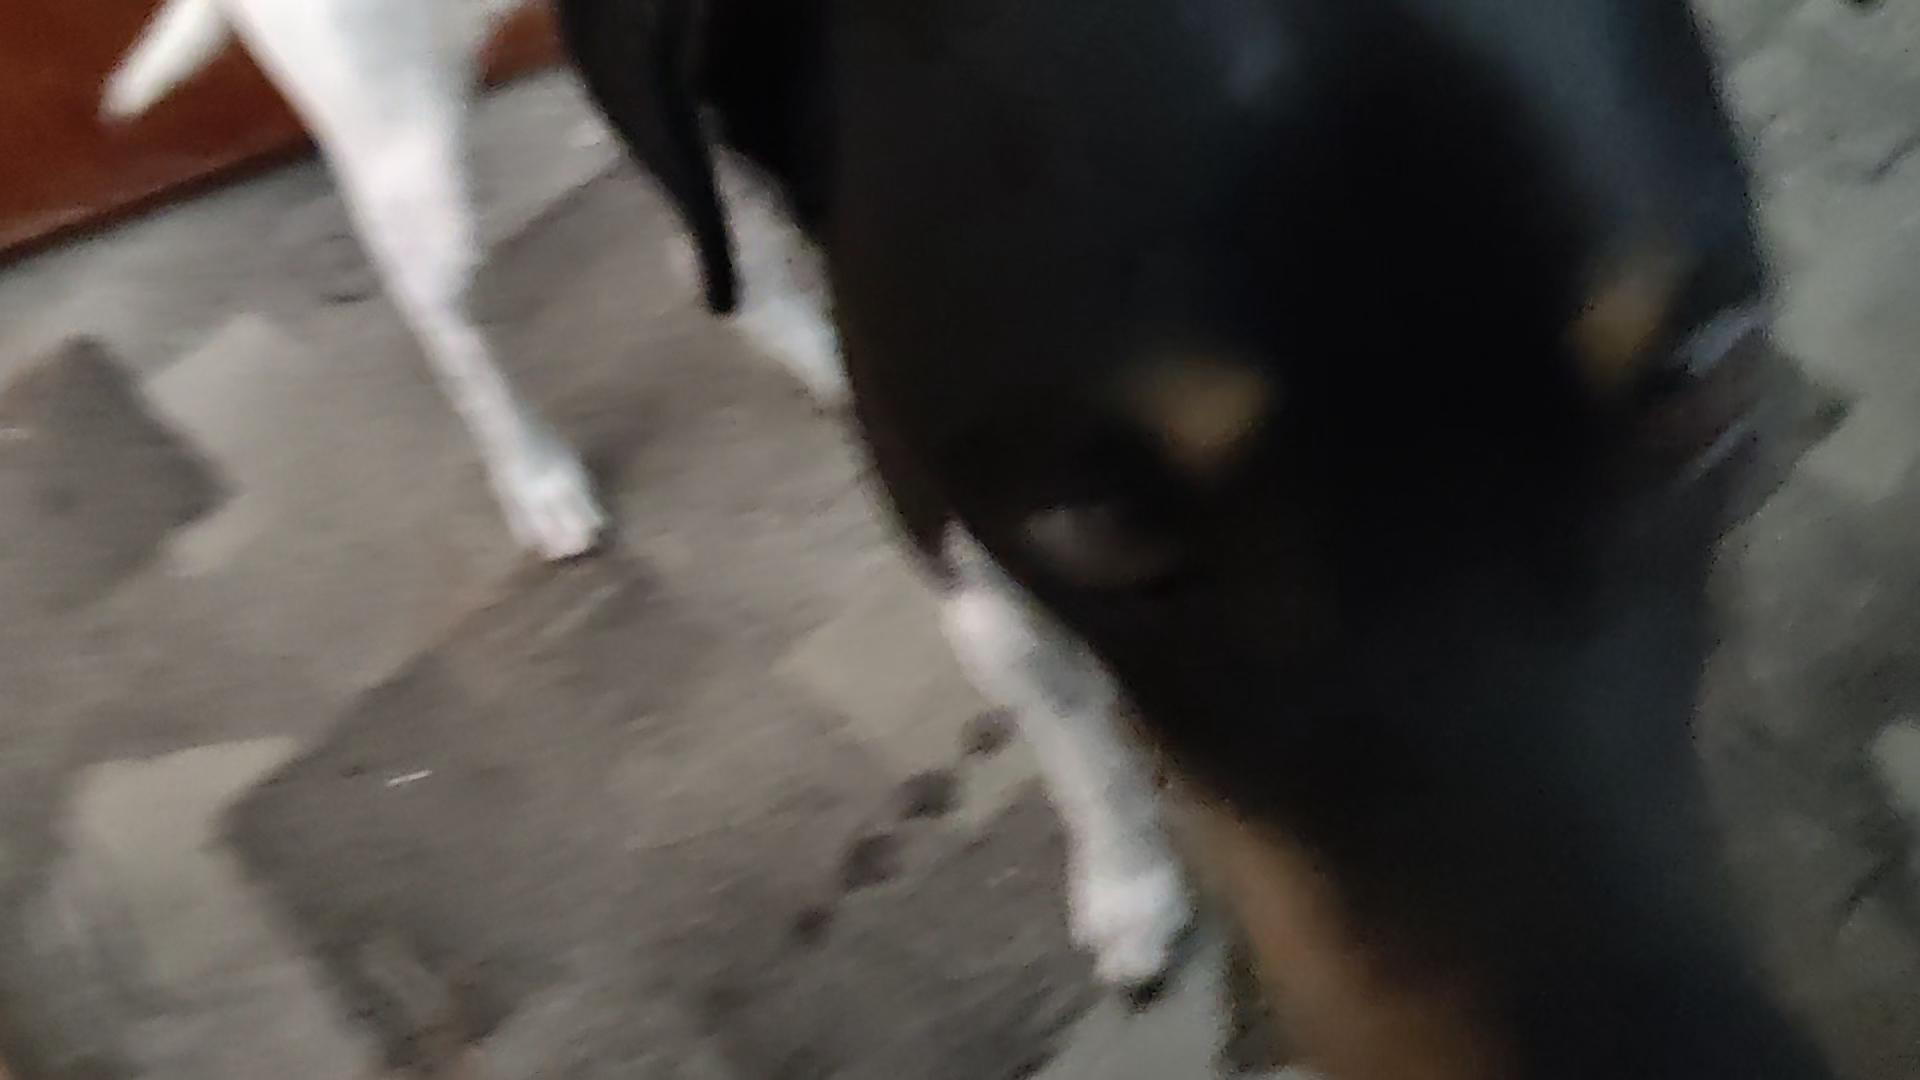Dog: (84, 0, 1841, 1080)
